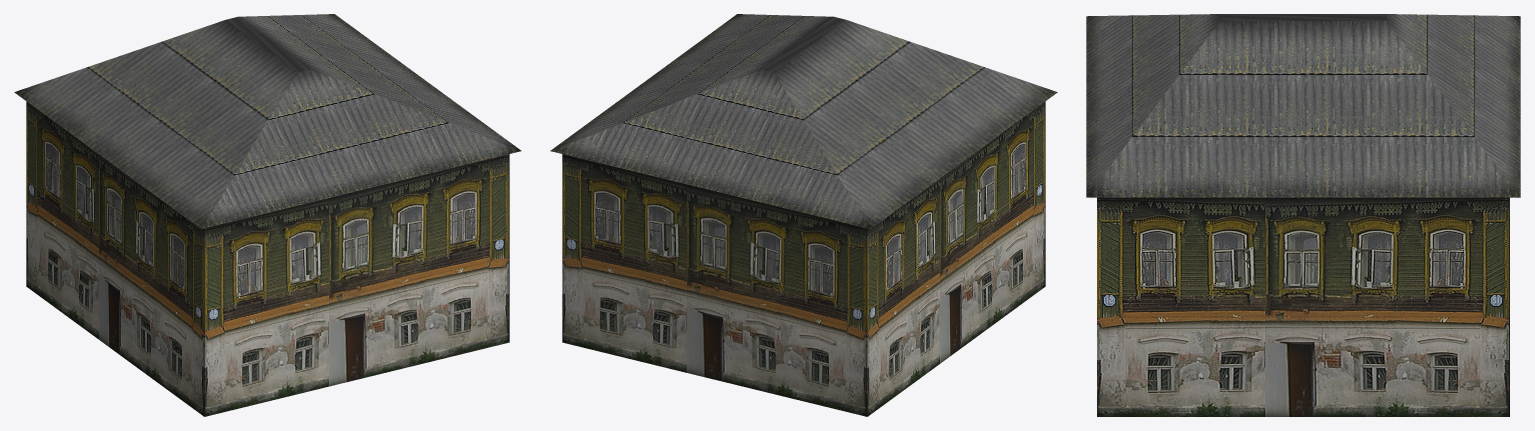
Rendered from d_dom_2et_46.FBX.
The picture shows the model from 3 angles, left to right: view 1: azimuth 30°, elevation 25°; view 2: azimuth 150°, elevation 25°; view 3: azimuth 270°, elevation 25°; orthographic projection. The views are drawn at different scales.
Parts seen in each view (by area): view 1: d_dom_2et_46; view 2: d_dom_2et_46; view 3: d_dom_2et_46.
Boxes of the visible parts, bbox=[...] form: d_dom_2et_46: bbox=[14, 14, 521, 416]; d_dom_2et_46: bbox=[550, 14, 1057, 416]; d_dom_2et_46: bbox=[1086, 14, 1520, 416].
Bounding box in the file's own units: 10.65 × 10.77 × 8.57.
